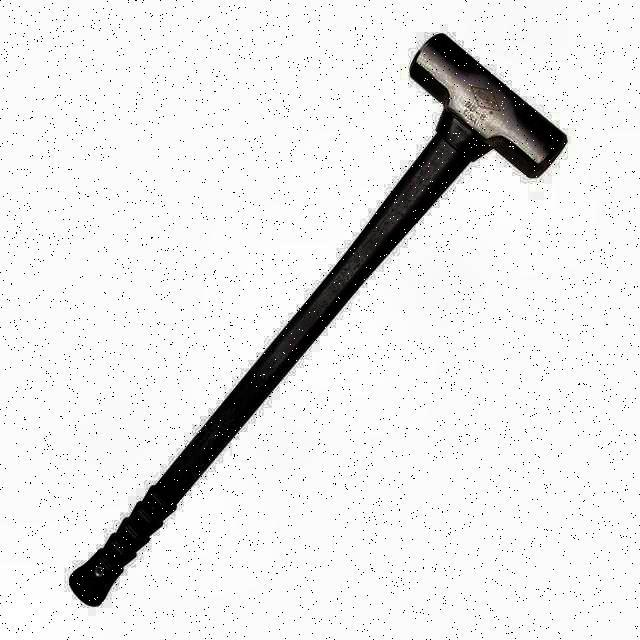hammer: (71, 32, 570, 613)
